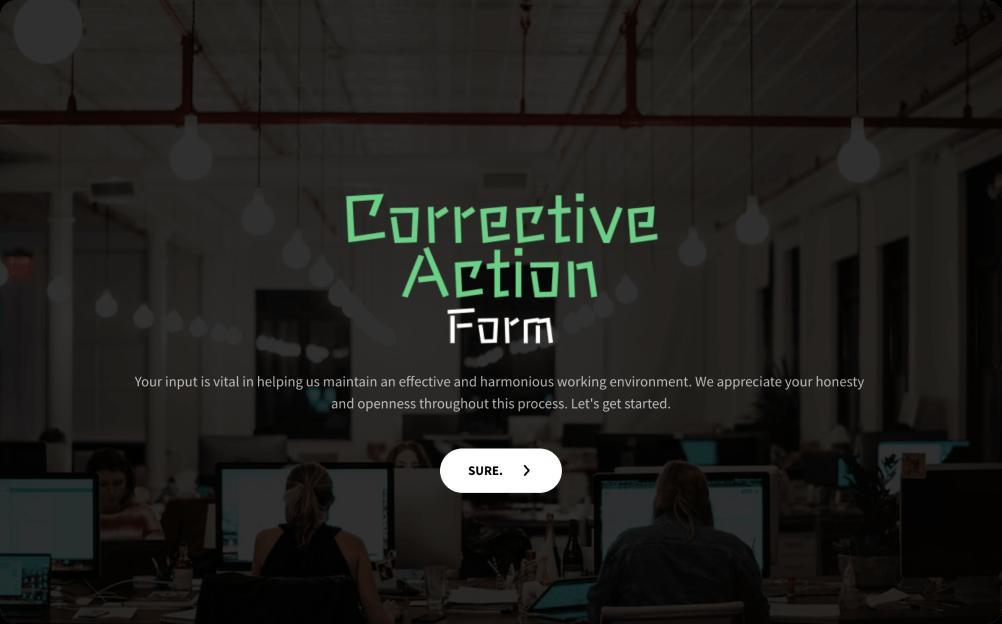button: (440, 446, 565, 497)
